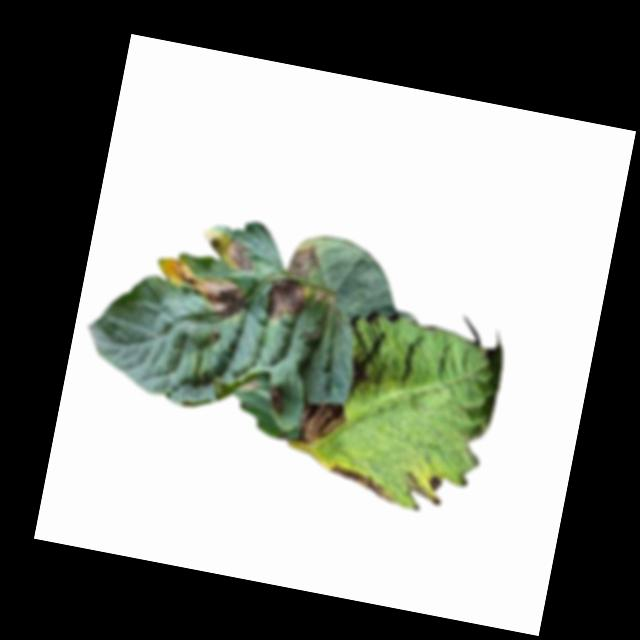Early_blight: (153, 254, 251, 321), (325, 462, 399, 505), (296, 397, 348, 451), (263, 276, 308, 325), (285, 235, 325, 283), (220, 235, 258, 272), (263, 379, 288, 414), (425, 471, 444, 492)
